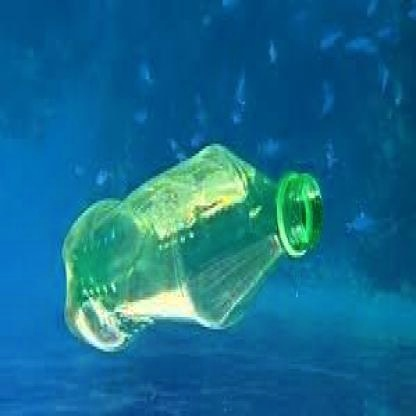pbottle: (42, 126, 330, 359)
